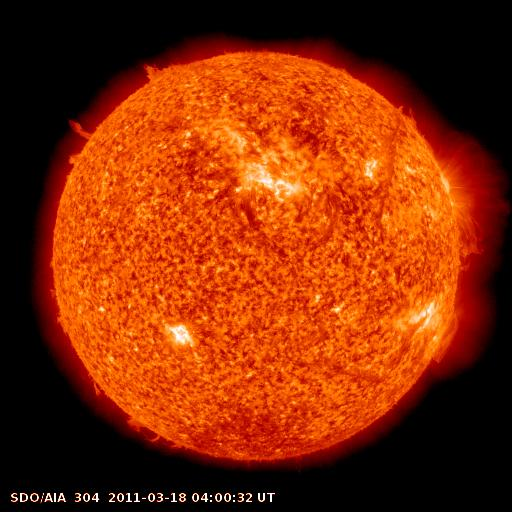prominence: (416, 299, 474, 378), (115, 405, 193, 460), (57, 113, 101, 175), (450, 220, 494, 278), (131, 50, 179, 96), (389, 94, 424, 133), (74, 363, 107, 404)
